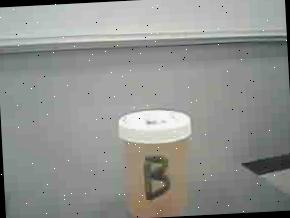Bottle B: (107, 99, 200, 218)
